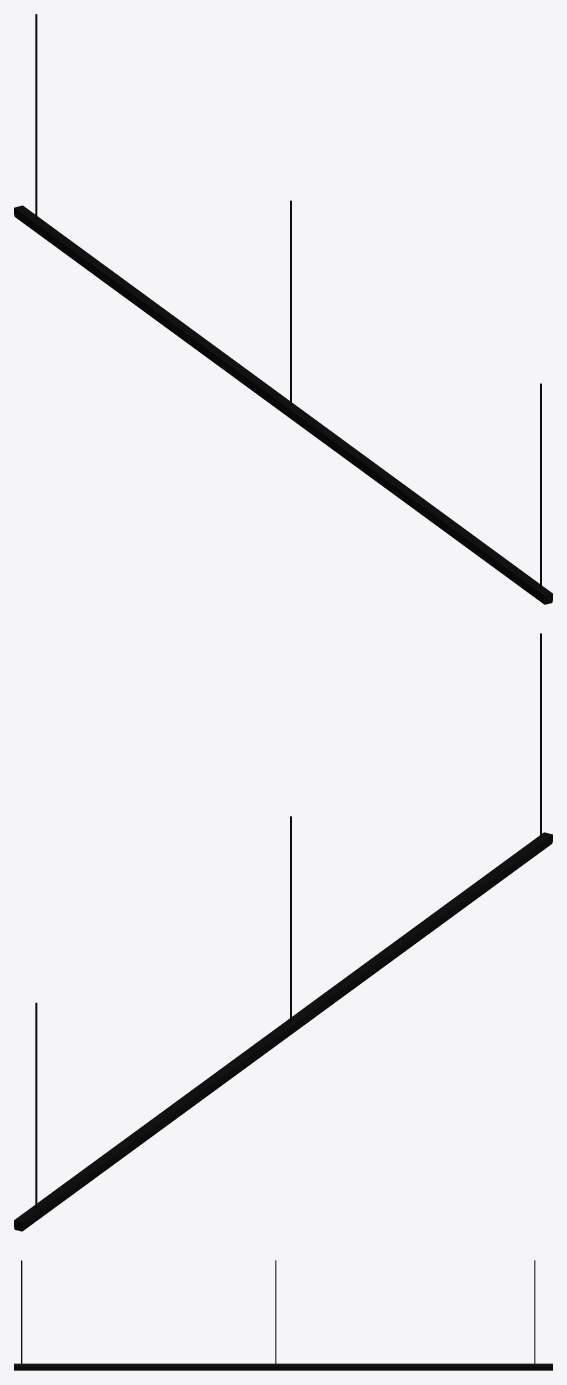
The model's file is BlackMetal009.FBX.
3 renders of one model, top to bottom at view 1: azimuth 30°, elevation 25°; view 2: azimuth 150°, elevation 25°; view 3: azimuth 270°, elevation 25°, orthographic. The views are drawn at different scales.
Parts seen in each view (by area): view 1: BlackMetal009; view 2: BlackMetal009; view 3: BlackMetal009.
Boxes of the visible parts, x1=… form: BlackMetal009: x1=14, y1=14, x2=552, y2=604; BlackMetal009: x1=14, y1=633, x2=552, y2=1231; BlackMetal009: x1=14, y1=1260, x2=552, y2=1370.
Size of the model in its own units: 0.1353 by 3.1 by 13.87.
1 material, 1 textured.
